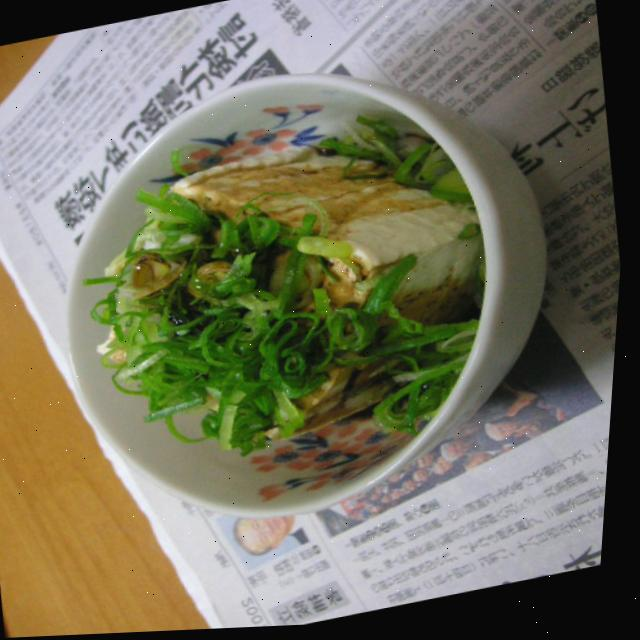豆腐料理: (59, 98, 522, 505)
